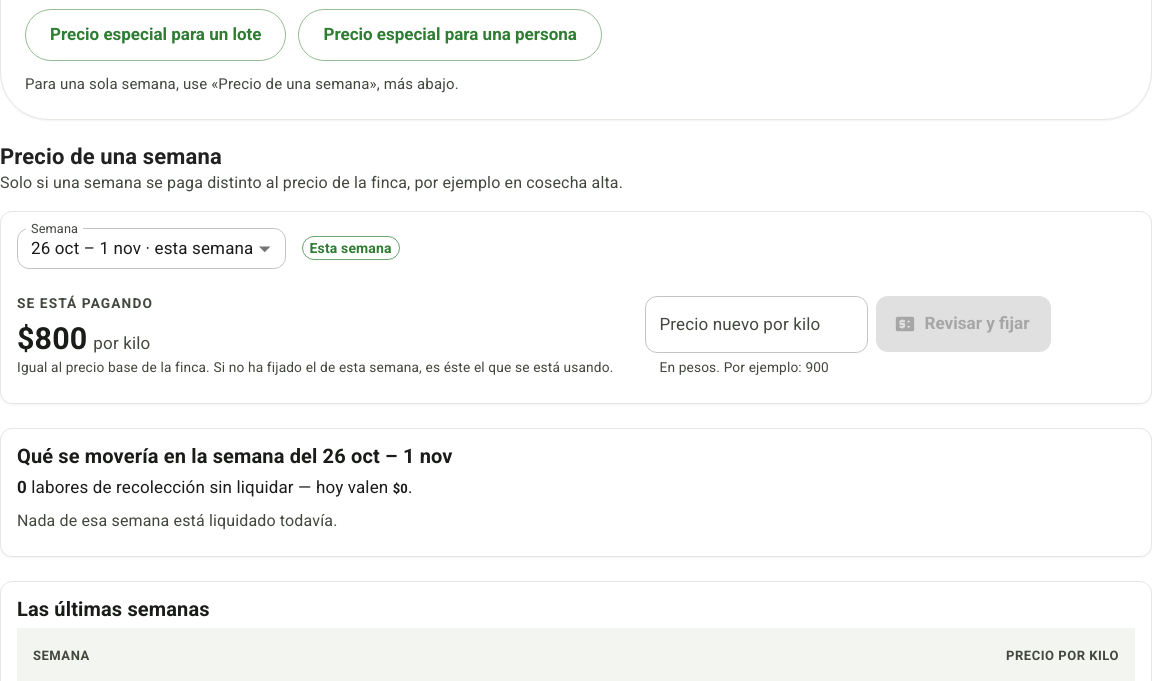
Test: the new price › shows the server's refusal, which can be dismissed
(page scrolled)
Type "900" into the field labelled "Precio nuevo por kilo" at (757, 324), box [645,296,868,353]
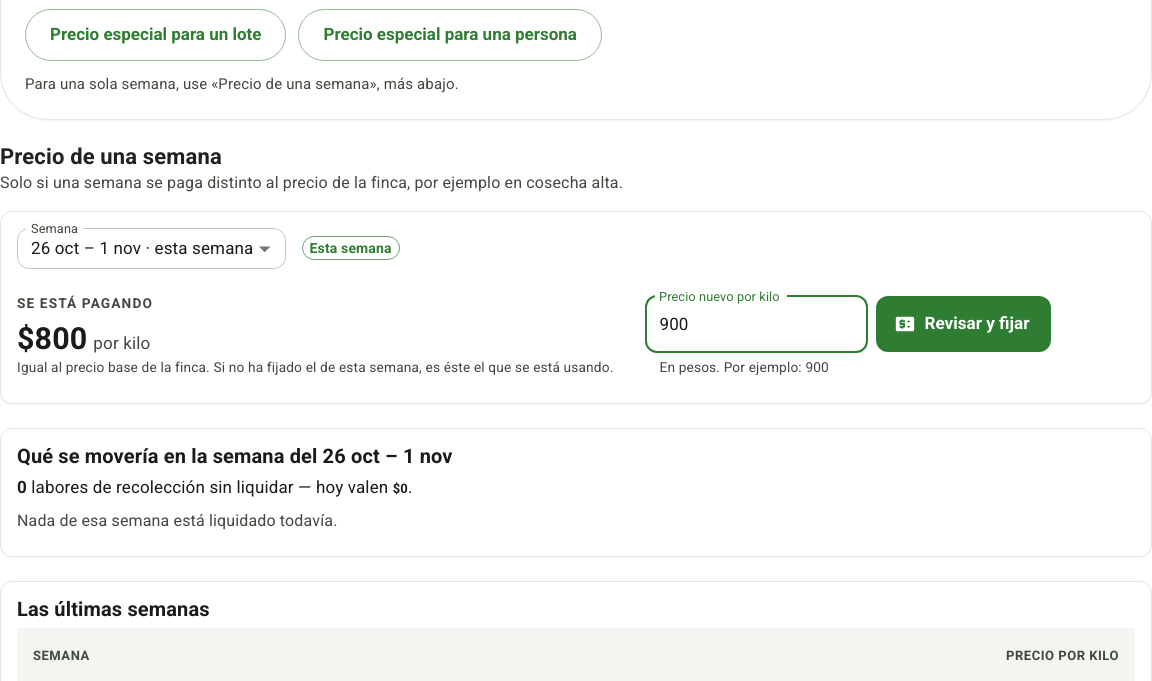
Click the button "Revisar y fijar" at (964, 324), box [876,296,1051,352]
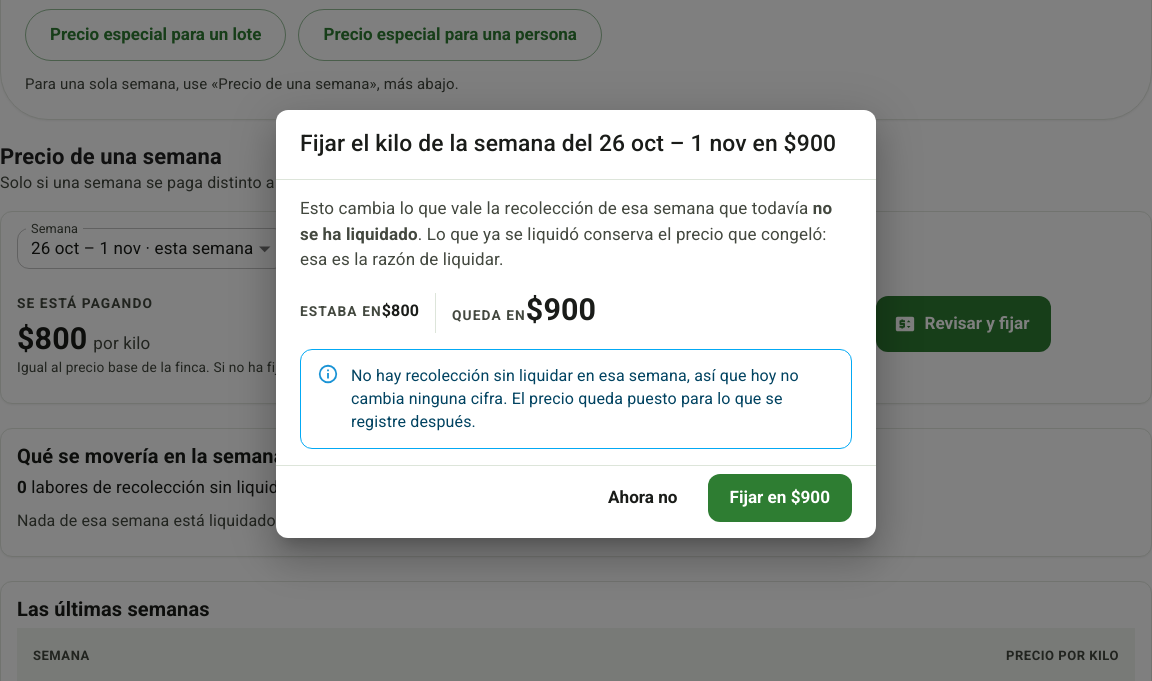
Click the button "Fijar en $900" at (780, 498), box [708,474,852,522]
(page scrolled)
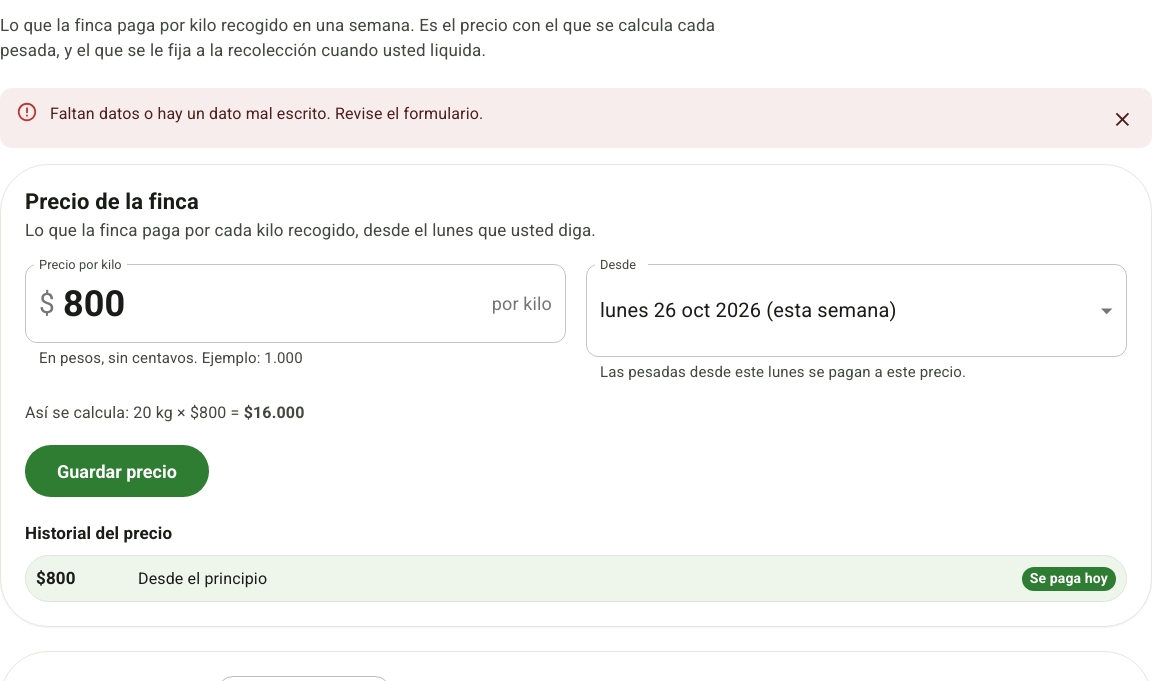
Expected: the dialog is gone
Expected: the message "Faltan datos o hay un dato mal escrito. Revise el formulario." is shown, [0,88,1151,148]
Click the button named "Cerrar" at (1122, 120), box [1100,98,1144,142]
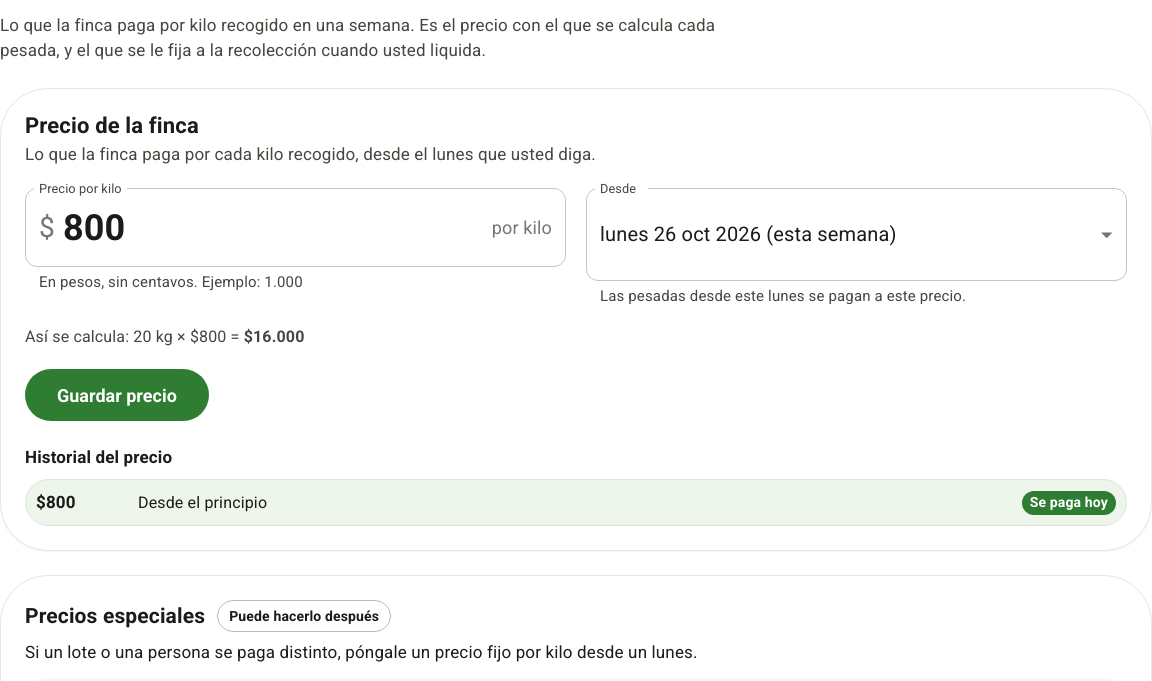
Expected: the message "Faltan datos o hay un dato mal escrito. Revise el formulario." is gone
